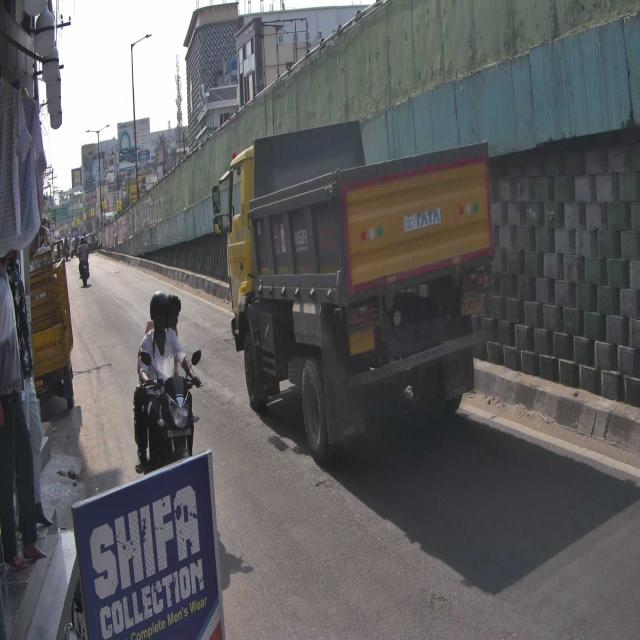double_rider: (131, 286, 207, 485)
